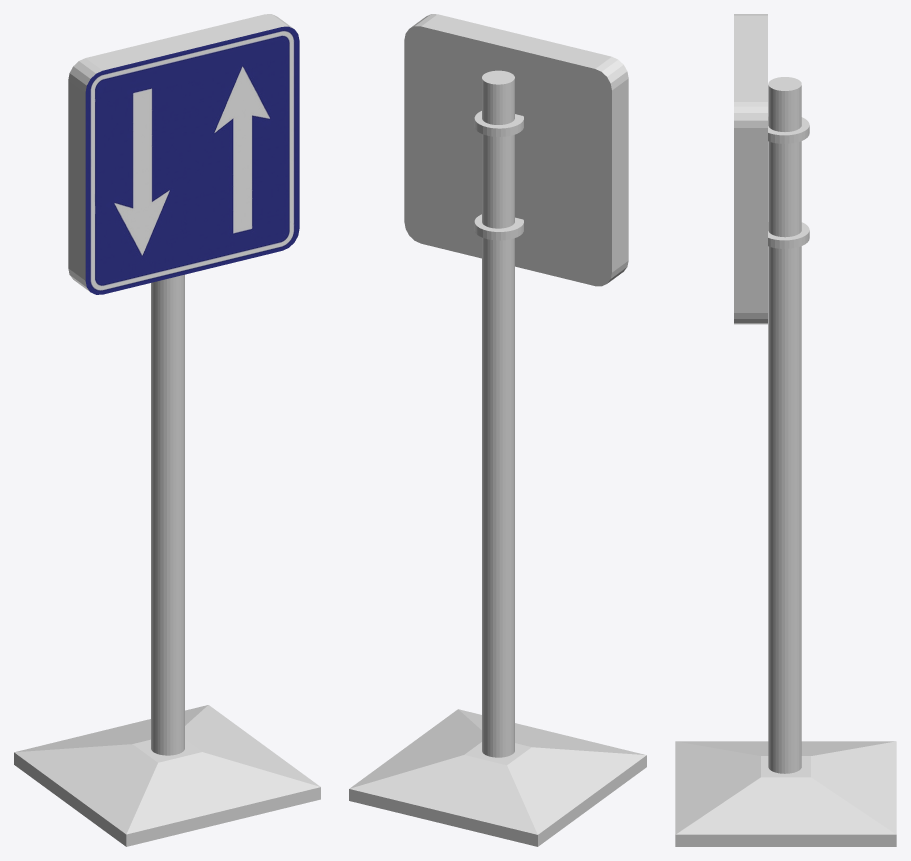
Rendered from iki_yonlu_yol.dae.
3 views of the same model, side by side, from view 1: azimuth 30°, elevation 25°; view 2: azimuth 150°, elevation 25°; view 3: azimuth 270°, elevation 25° (orthographic). The views are drawn at different scales.
Parts seen in each view (by area): view 1: Plane; view 2: Plane; view 3: Plane.
Part boxes in pixels (bbox=[...]): Plane: bbox=[14, 14, 320, 846]; Plane: bbox=[349, 14, 646, 846]; Plane: bbox=[675, 14, 896, 846].
Size of the model in its own units: 0.823 by 0.7483 by 2.77.
3 materials, 1 textured.
